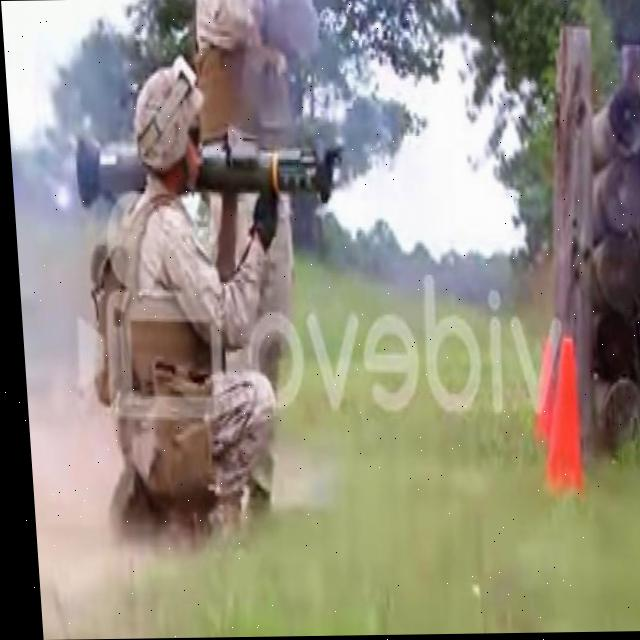rocket: (69, 135, 337, 216)
